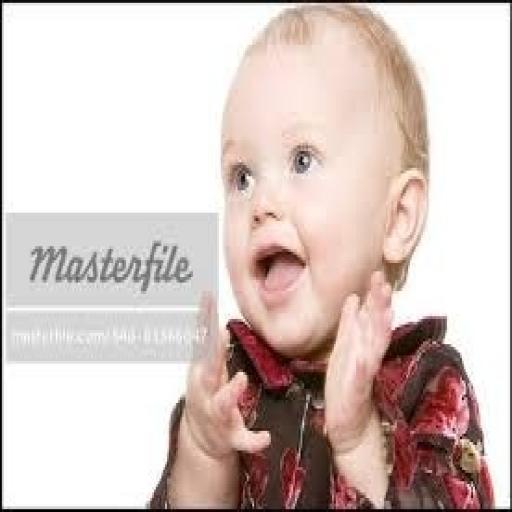clapping: (145, 3, 495, 509)
